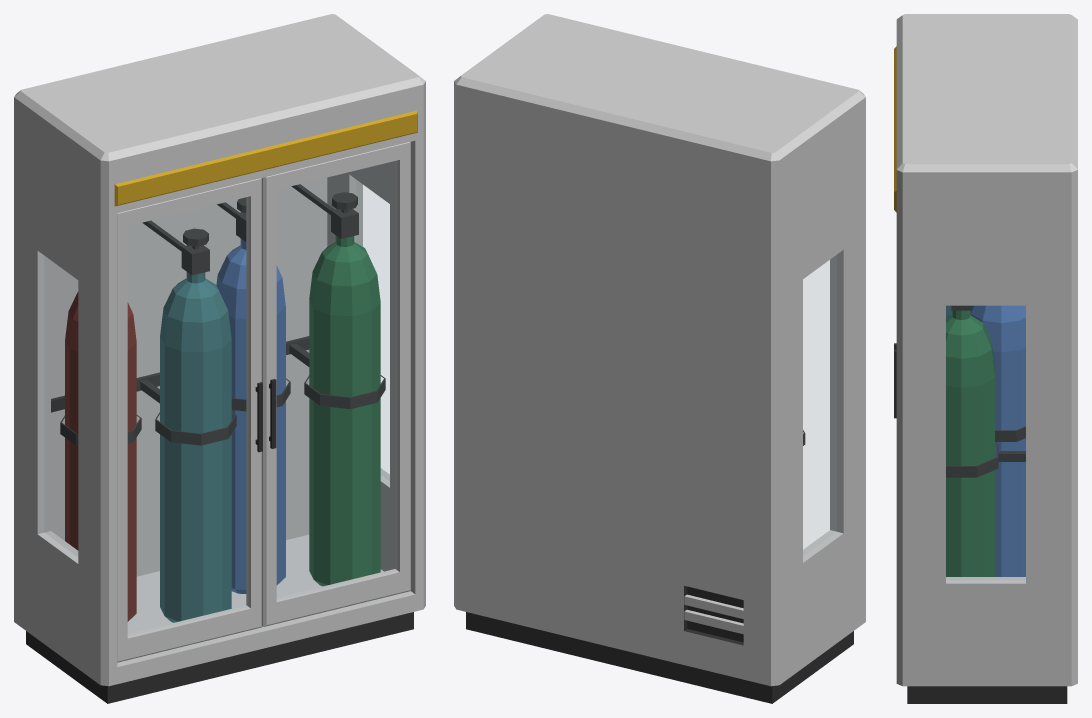
Rendered from gas-cylinder-cabinet-cea23b.glb.
The picture shows the model from 3 angles, left to right: view 1: azimuth 30°, elevation 25°; view 2: azimuth 150°, elevation 25°; view 3: azimuth 270°, elevation 25°; orthographic projection. The views are drawn at different scales.
Parts seen in each view (by area): view 1: gas-cylinder-cabinet, cylinder-2, cylinder-4, door-r, door-l, cylinder-3, cylinder-1; view 2: gas-cylinder-cabinet; view 3: gas-cylinder-cabinet, cylinder-4, cylinder-3.
Boxes of the visible parts, x1,y1,x2,y2 form: gas-cylinder-cabinet: [14, 14, 425, 703]; cylinder-2: [142, 220, 231, 622]; cylinder-4: [291, 184, 380, 586]; door-r: [262, 141, 410, 626]; door-l: [117, 178, 262, 662]; cylinder-3: [216, 197, 285, 593]; cylinder-1: [65, 291, 136, 621]; gas-cylinder-cabinet: [454, 14, 865, 703]; gas-cylinder-cabinet: [894, 14, 1077, 703]; cylinder-4: [946, 305, 994, 576]; cylinder-3: [970, 305, 1025, 576].
Size of the model in its own units: 1.2 by 1.95 by 0.6.
